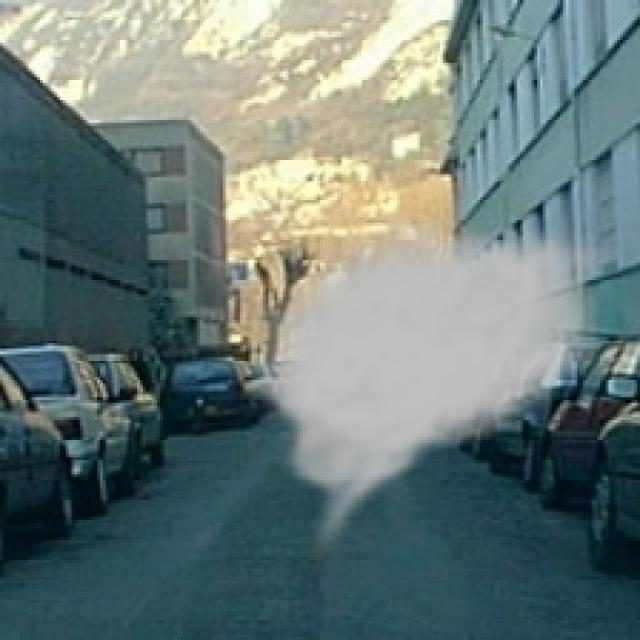Smoke: (237, 212, 626, 557)
